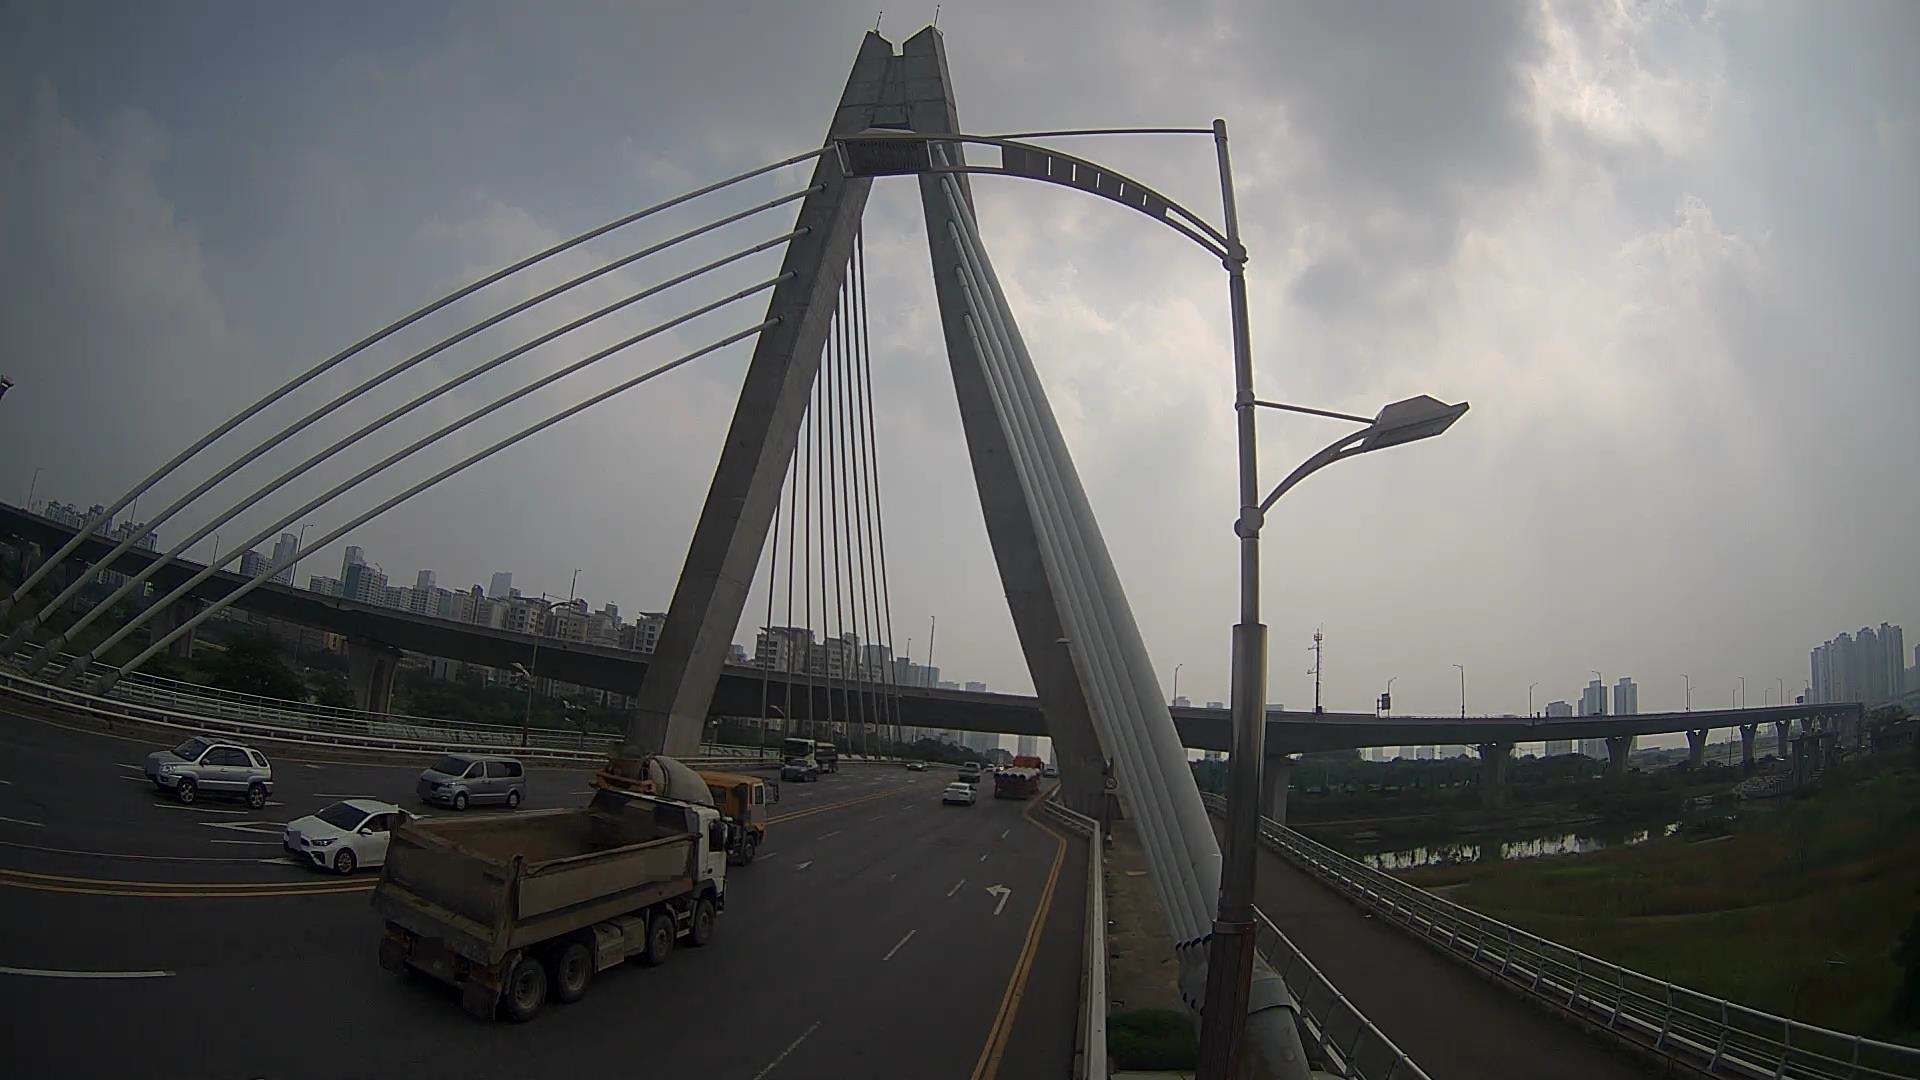정상차량: (368, 786, 737, 1022)
